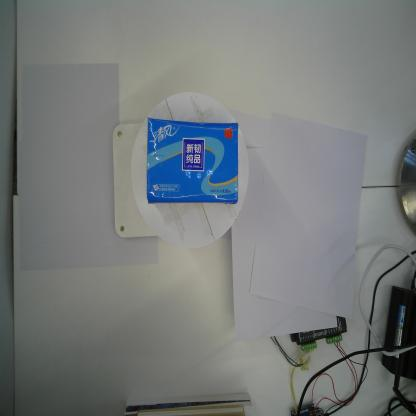Tissue: (146, 116, 240, 206)
